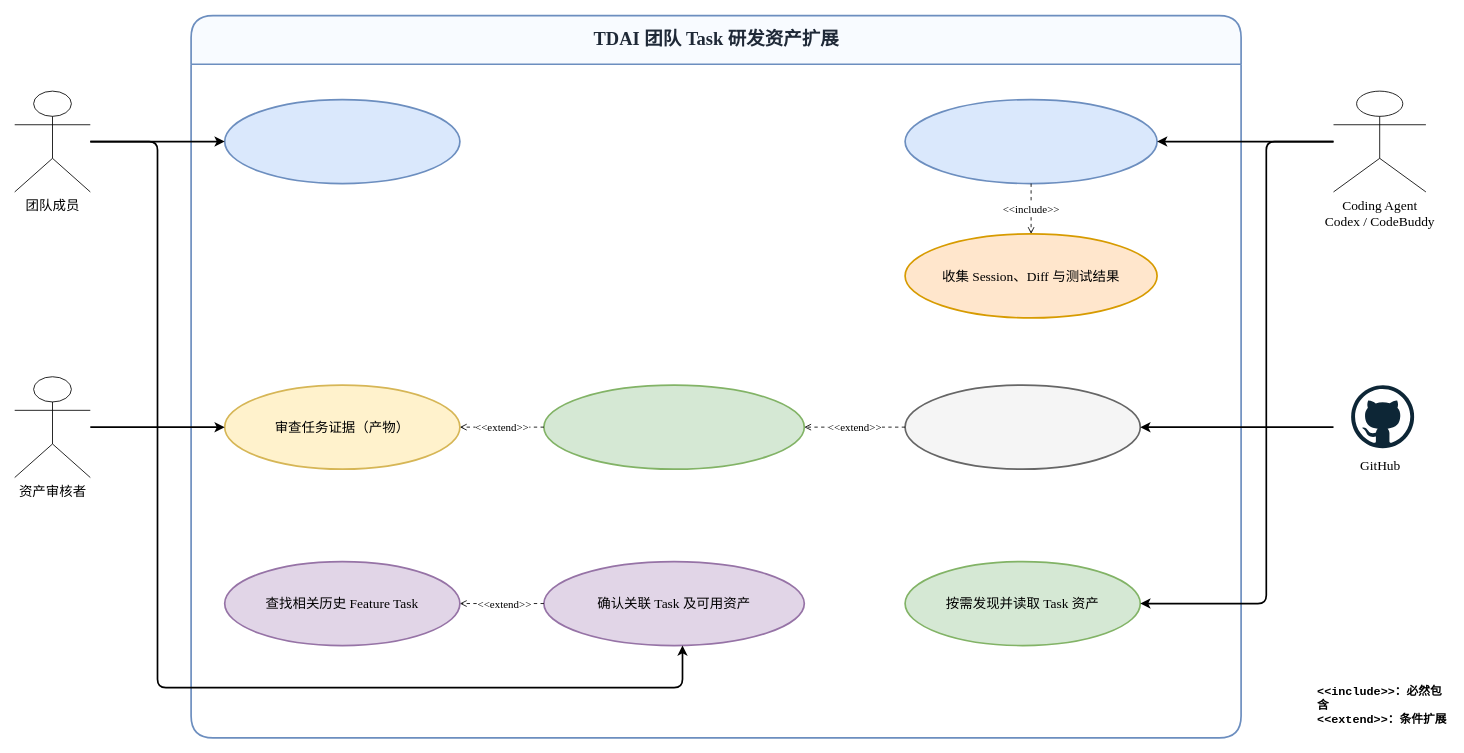
This 1464x753 diagram has some shape labels left out. Here are the shapes that lost their labels. From the top down, the centre of each, then its label:
(341,141): 创建并配置 Task
(1031,141): 执行任务
(674,427): 批准并沉淀 Wiki / CKG / Skill
(1022,427): 发布 Task 仓库快照
